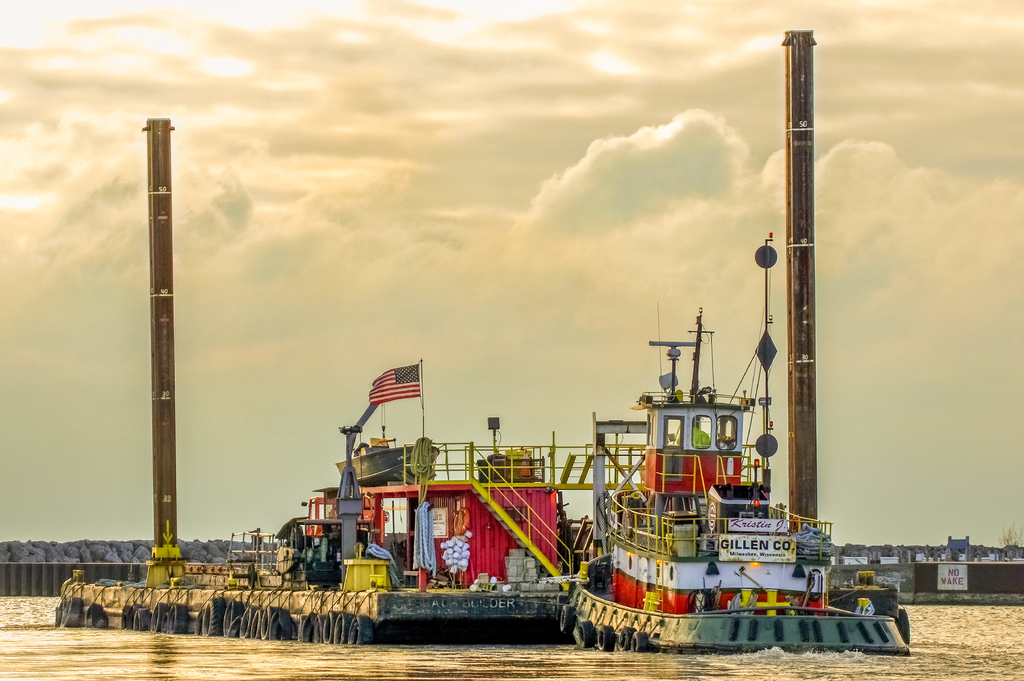boat: (560, 298, 940, 665)
